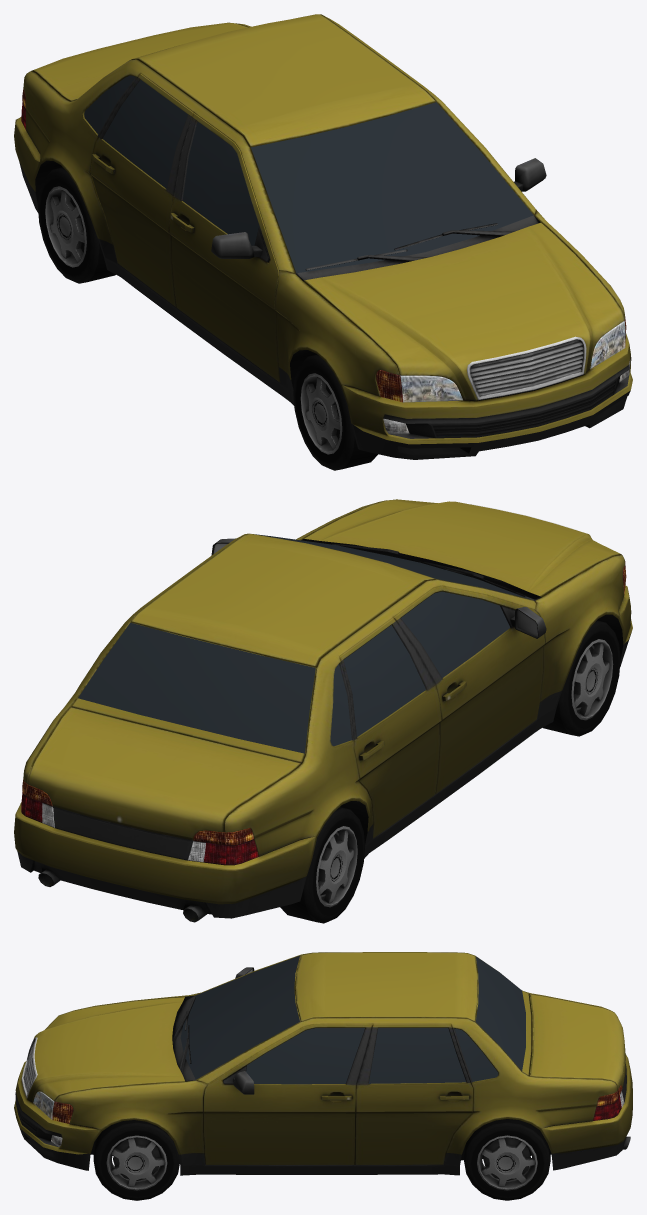
The model's file is car_sedan.gltf.
The picture shows the model from 3 angles, top to bottom: view 1: azimuth 30°, elevation 25°; view 2: azimuth 150°, elevation 25°; view 3: azimuth 270°, elevation 25°; orthographic projection. The views are drawn at different scales.
Parts seen in each view (by area): view 1: car_sedan; view 2: car_sedan; view 3: car_sedan.
Part boxes in pixels (<box>): car_sedan: <box>14,14,632,470</box>; car_sedan: <box>14,499,632,923</box>; car_sedan: <box>14,952,632,1200</box>.
Bounding box in the file's own units: 2.05 × 1.42 × 4.6.
1 material, 1 textured.
